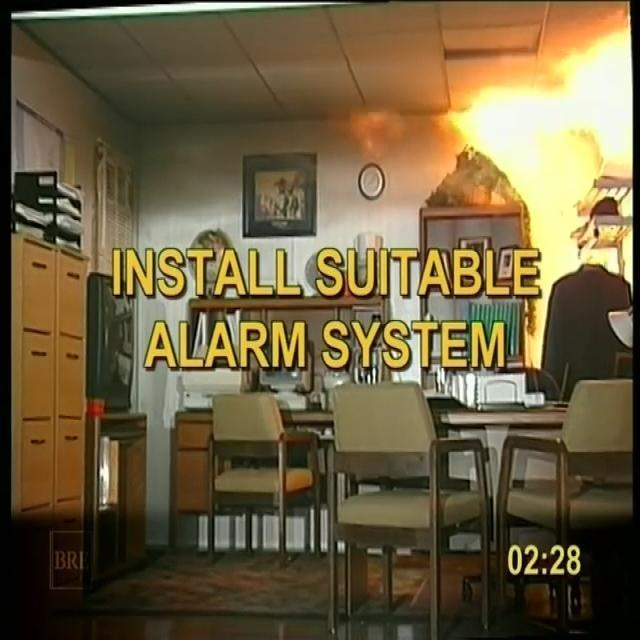Fire: (410, 5, 632, 360)
